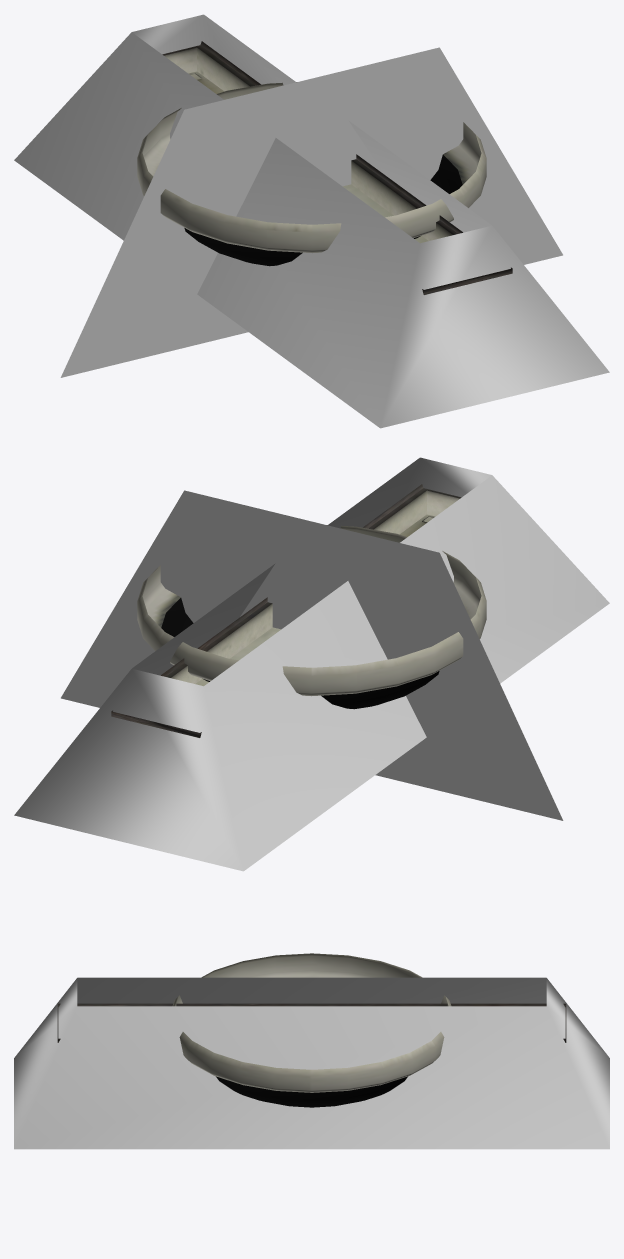
The model's file is lampen.fbx.
The picture shows the model from 3 angles, top to bottom: view 1: azimuth 30°, elevation 25°; view 2: azimuth 150°, elevation 25°; view 3: azimuth 270°, elevation 25°; orthographic projection. The views are drawn at different scales.
Visible parts, largest first — view 1: lichtkegel_01, lchtkegel_02, lampe_02, lampe_01; view 2: lichtkegel_01, lchtkegel_02, lampe_02, lampe_01; view 3: lichtkegel_01, lampe_02, lampe_01.
Part boxes in pixels (<box>): lichtkegel_01: <box>14,14,609,428</box>; lchtkegel_02: <box>60,47,562,377</box>; lampe_02: <box>137,82,486,266</box>; lampe_01: <box>162,41,512,294</box>; lichtkegel_01: <box>14,457,609,871</box>; lchtkegel_02: <box>61,490,563,820</box>; lampe_02: <box>137,525,486,709</box>; lampe_01: <box>111,484,461,737</box>; lichtkegel_01: <box>14,977,609,1149</box>; lampe_02: <box>172,953,451,1107</box>; lampe_01: <box>57,1003,566,1042</box>.
Bounding box in the file's own units: 120 × 54.17 × 151.
